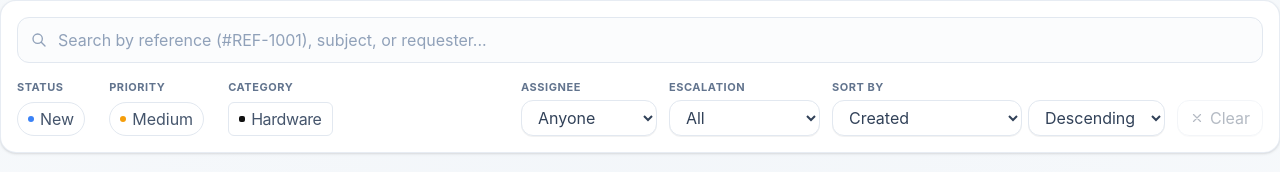
Scenario: TicketFilterBar › Clear disables when nothing is active and re-enables once a chip is selected
Expected: the button with test id "filter-clear" is disabled, [1177, 100, 1263, 136]
// Click the first status chip
Click the button "New" at (51, 118), box [17, 102, 85, 136]
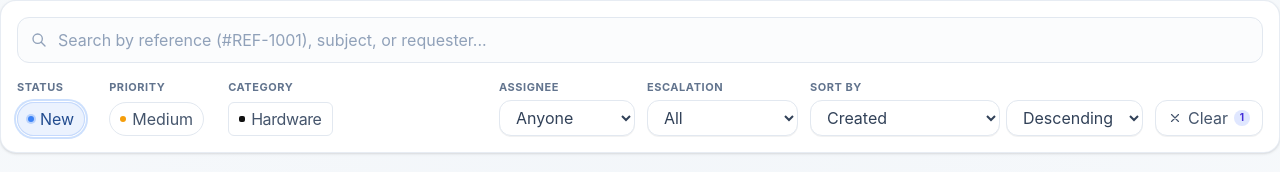
Result: the button with test id "filter-clear" is enabled at [1155, 100, 1263, 136]
